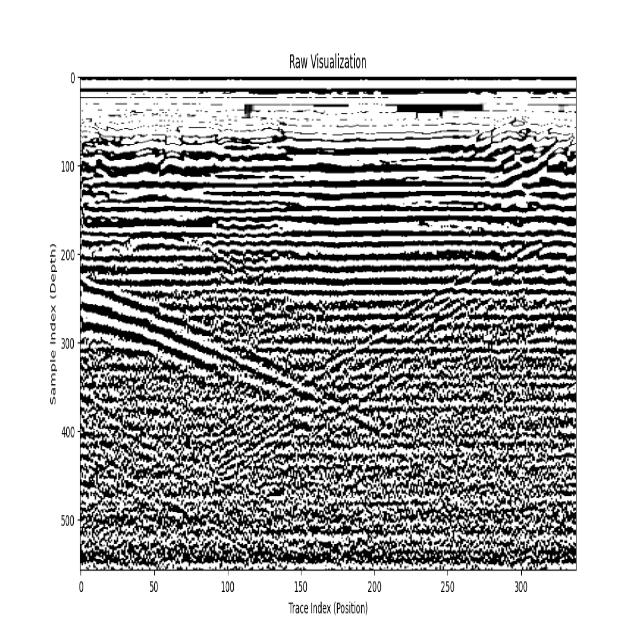anomaly: (87, 270, 515, 512), (233, 198, 577, 477)
